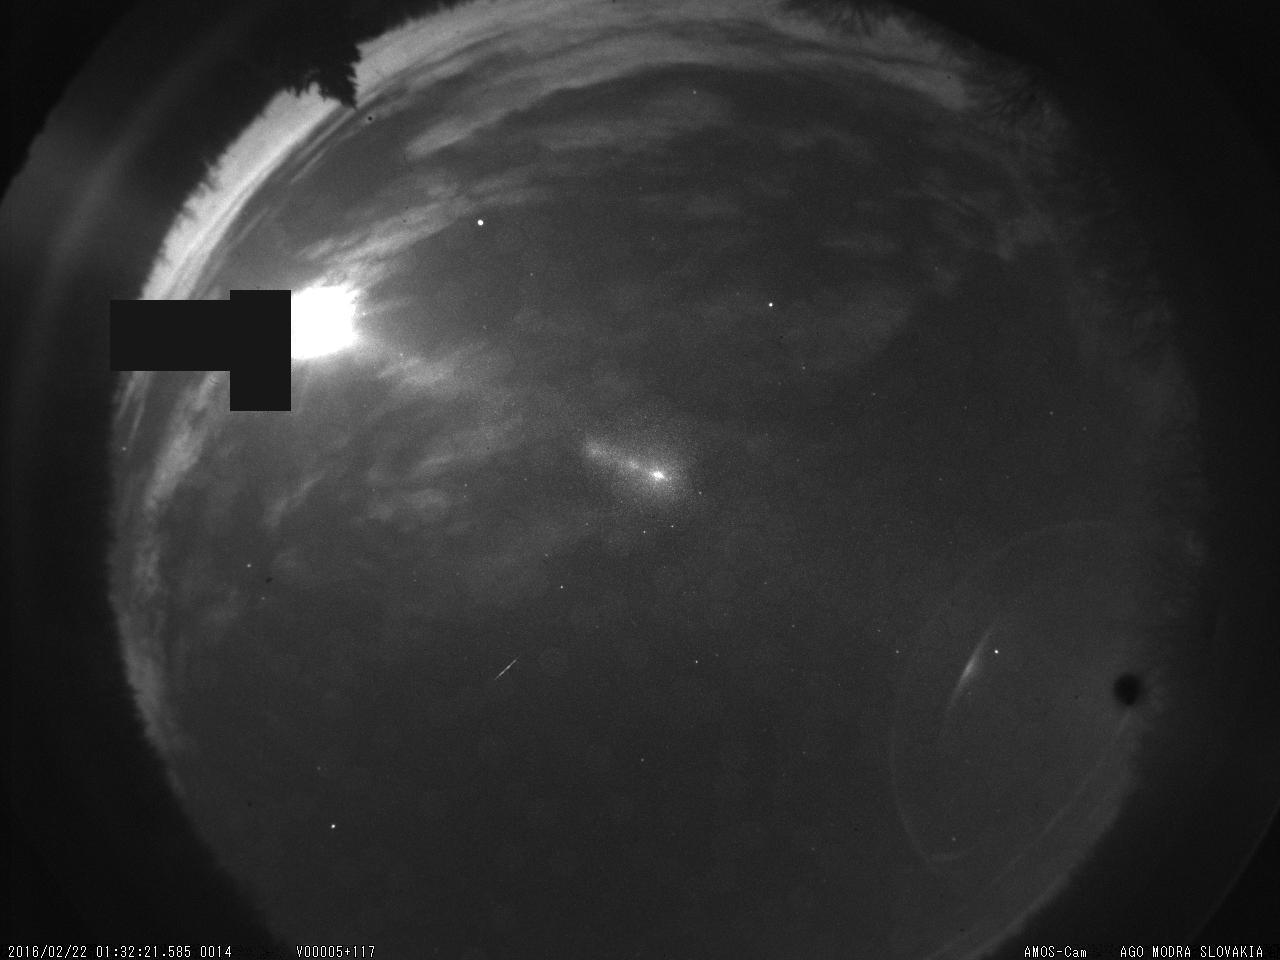meteor: (487, 653, 522, 688)
